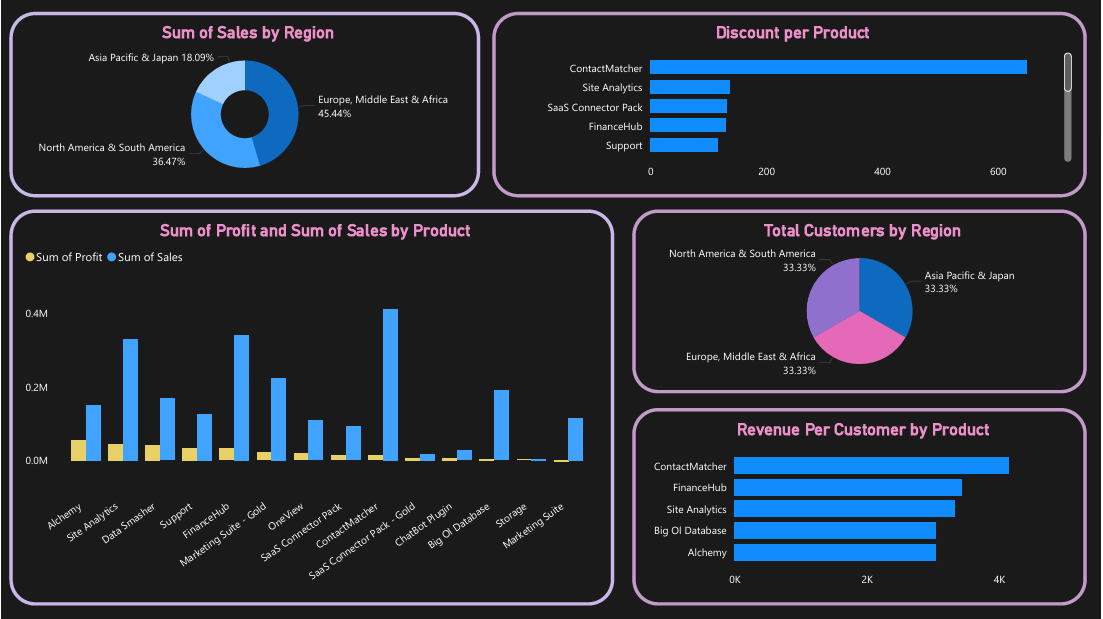

The page's visual inventory and layout, read from the dashboard file:
{"tool":"powerbi","page":{"name":"Analytical/ Insight Dashboard","canvas":[1280,720],"ordinal":1},"visuals":[{"type":"pieChart","fields":{"Category":["SaaS-Sales.Region"],"Y":["Sum(SaaS-Sales.Sales)"]},"box":[9.1,13,547.9,215.5],"z":0},{"type":"clusteredColumnChart","fields":{"Category":["SaaS-Sales.Product"],"Y":["Sum(SaaS-Sales.Profit)","Sum(SaaS-Sales.Sales)"]},"box":[9.1,242.8,703.8,460.9],"z":1000},{"type":"barChart","fields":{"Y":["SaaS-Sales.Revenue Per Customer"],"Category":["SaaS-Sales.Product"]},"box":[733.6,473.9,529.8,229.8],"z":2000},{"type":"pieChart","fields":{"Category":["SaaS-Sales.Region"],"Y":["SaaS-Sales.Total Customers"]},"box":[733.6,242.8,529.8,214.2],"z":3000},{"type":"barChart","title":"Discount per Product","fields":{"Category":["SaaS-Sales.Product"],"Y":["Sum(SaaS-Sales.Discount)"]},"box":[571.3,13,692.1,215.5],"z":4000}]}

Visuals, with their boxes in screenshot pixels (x1, y1, x2, y2), scaled from the page's 1280x720 canvas onto the 1103x619 screenshot:
pieChart - SaaS-Sales.Region x Sum(SaaS-Sales.Sales): detection(8, 11, 480, 196)
clusteredColumnChart - SaaS-Sales.Product x Sum(SaaS-Sales.Profit): detection(8, 209, 614, 605)
barChart - SaaS-Sales.Revenue Per Customer x SaaS-Sales.Product: detection(632, 407, 1089, 605)
pieChart - SaaS-Sales.Region x SaaS-Sales.Total Customers: detection(632, 209, 1089, 393)
"Discount per Product" barChart: detection(492, 11, 1089, 196)
